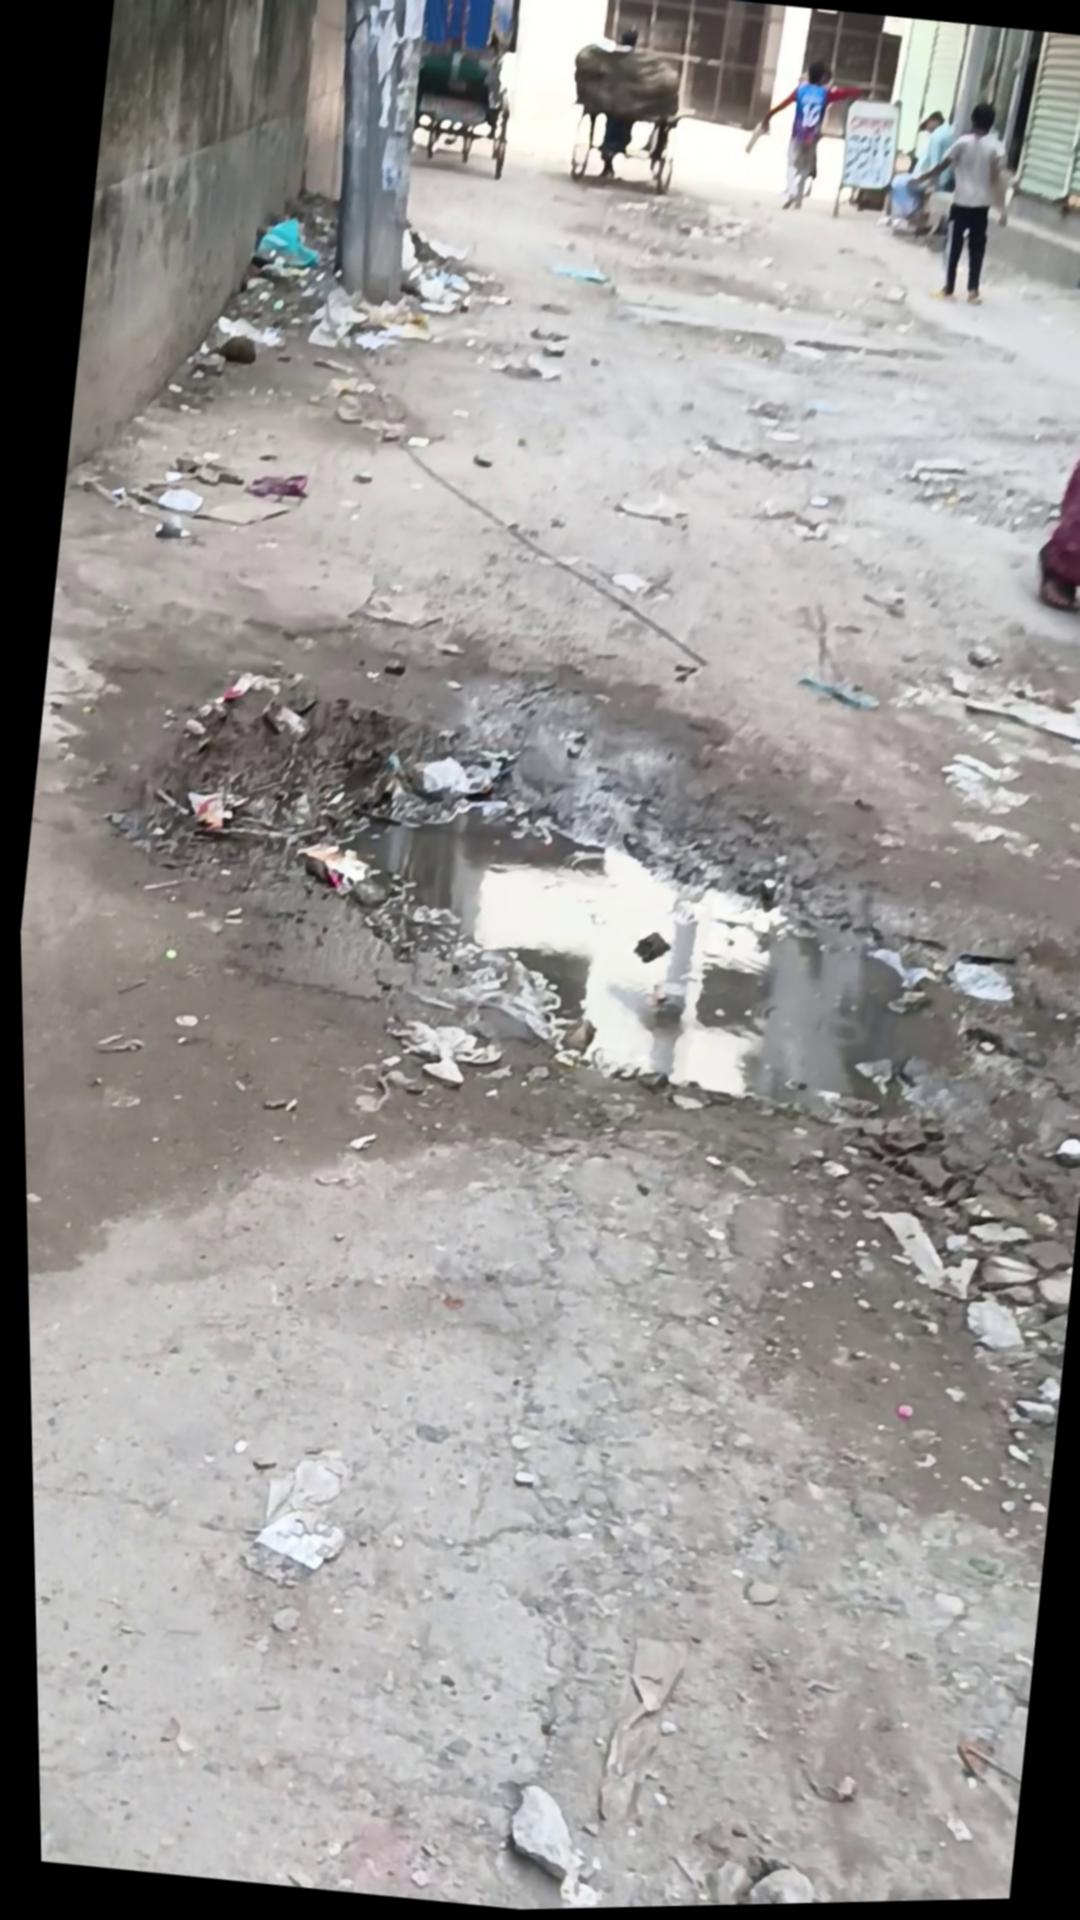Broken-road: (1, 40, 1080, 1920)
Crosswalk: (885, 178, 1080, 302)
Muddy road: (890, 99, 1023, 313), (745, 55, 839, 218), (872, 108, 956, 241)
Obstacle: (306, 0, 440, 310)
Pothole: (555, 33, 692, 200), (404, 0, 527, 183)
Railroad-crossing: (78, 588, 1080, 1251)
